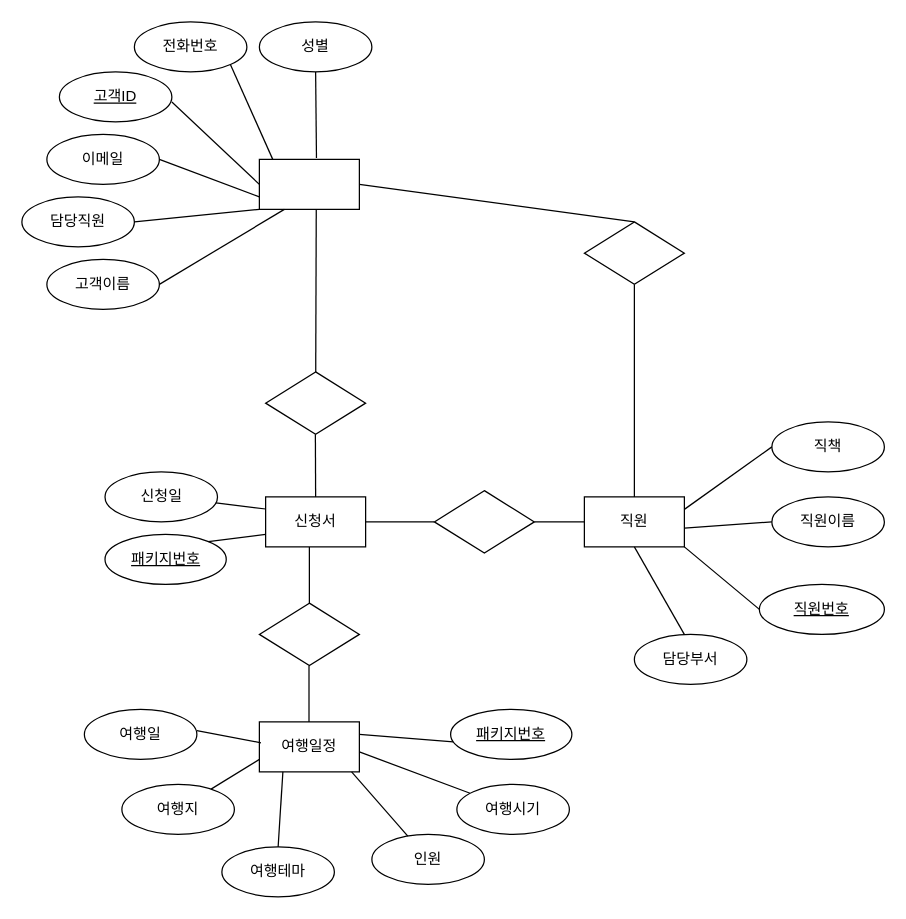
This 906x919 diagram has some shape labels left out. Each missing label, with the box of its shape:
고객: (258, 158, 359, 209)
담당: (583, 221, 684, 284)
보관: (433, 489, 534, 553)
신청: (264, 371, 366, 434)
포함: (258, 602, 359, 666)
